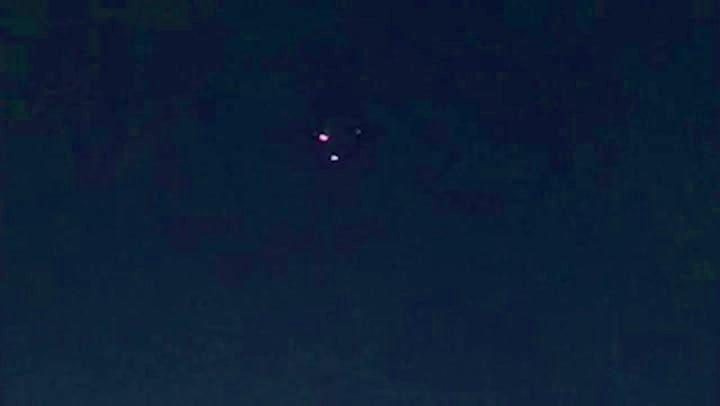Plane: (308, 125, 376, 163)
